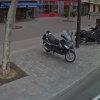Motorcycle: (35, 25, 81, 60)
